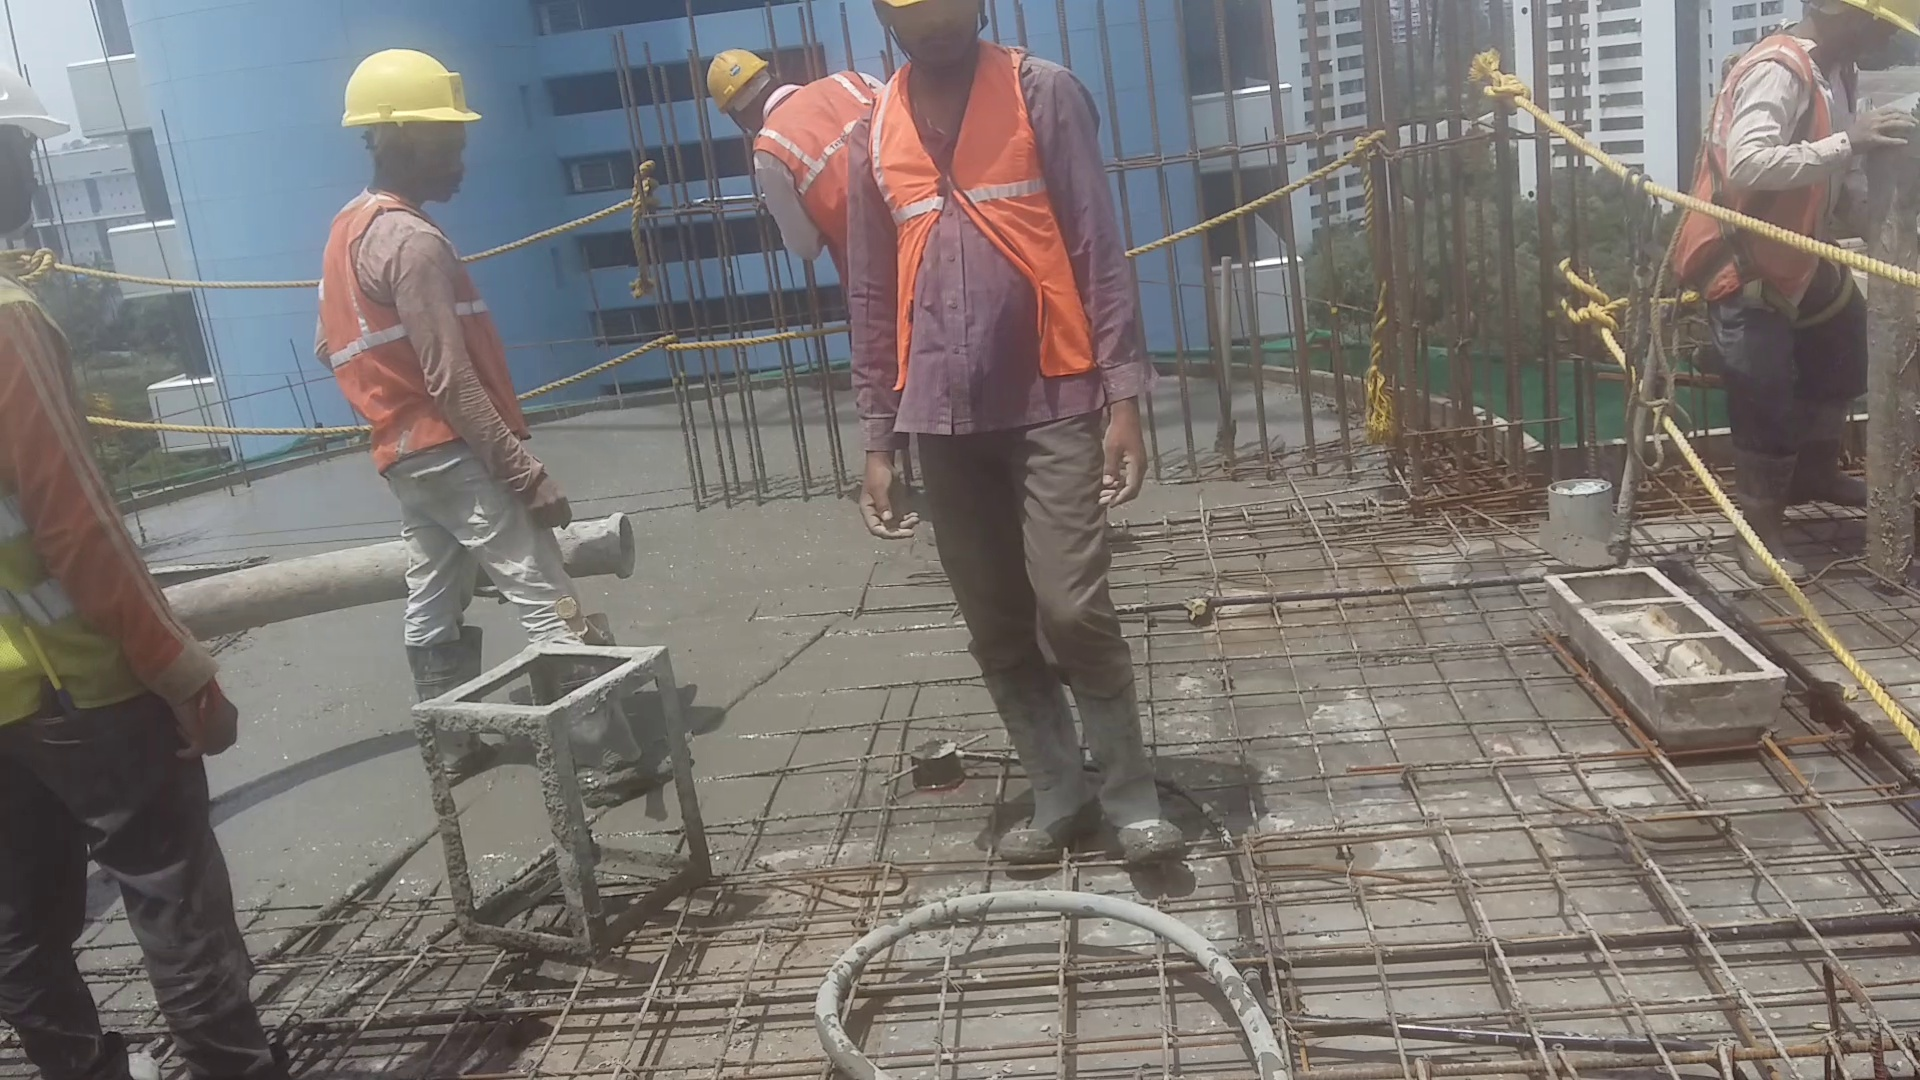SAFE: (326, 33, 527, 475), (707, 33, 877, 319)
